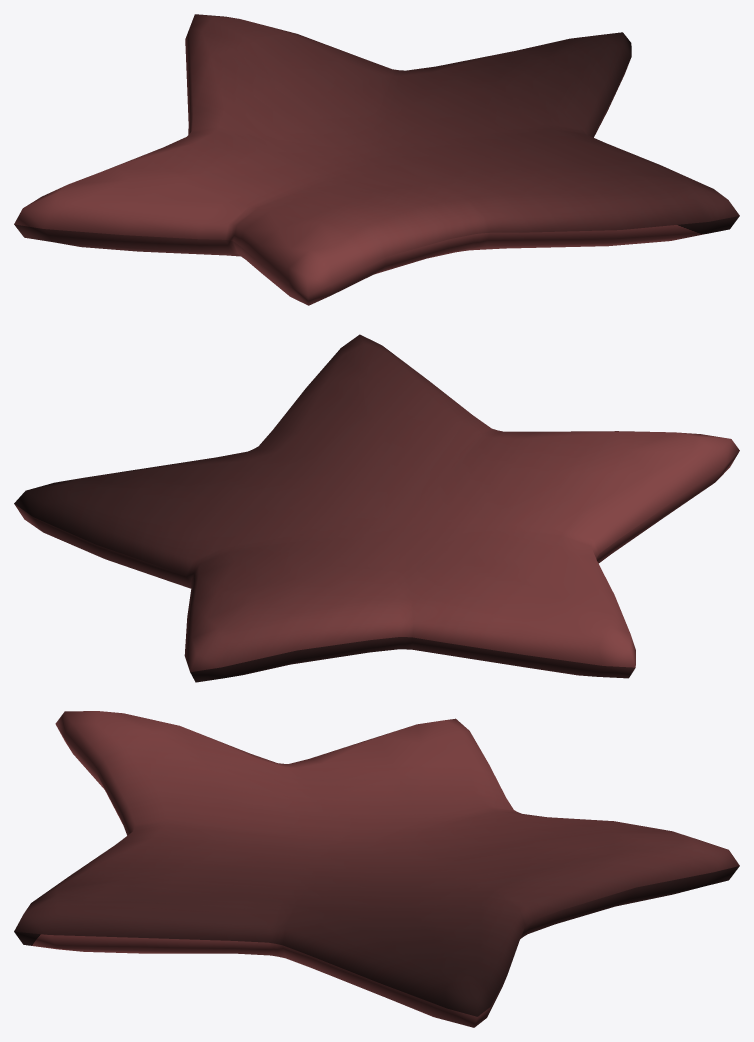
Rendered from star.glb.
The picture shows the model from 3 angles, top to bottom: view 1: azimuth 30°, elevation 25°; view 2: azimuth 150°, elevation 25°; view 3: azimuth 270°, elevation 25°; orthographic projection. The views are drawn at different scales.
Parts seen in each view (by area): view 1: cs_star3; view 2: cs_star3; view 3: cs_star3.
Boxes of the visible parts, x1,y1,x2,y2 form: cs_star3: [14, 14, 739, 305]; cs_star3: [14, 334, 739, 682]; cs_star3: [14, 711, 739, 1027].
Size of the model in its own units: 0.1305 by 0.021 by 0.13.
1 material, 1 textured.
